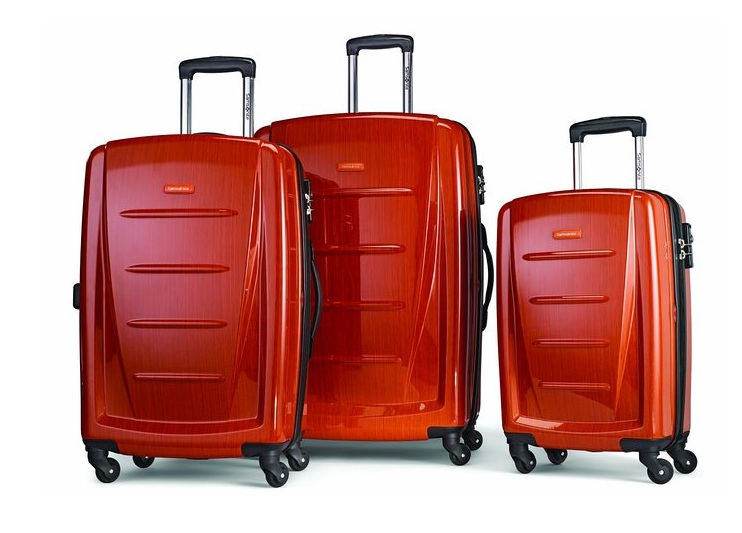luggage: (493, 113, 701, 487)
